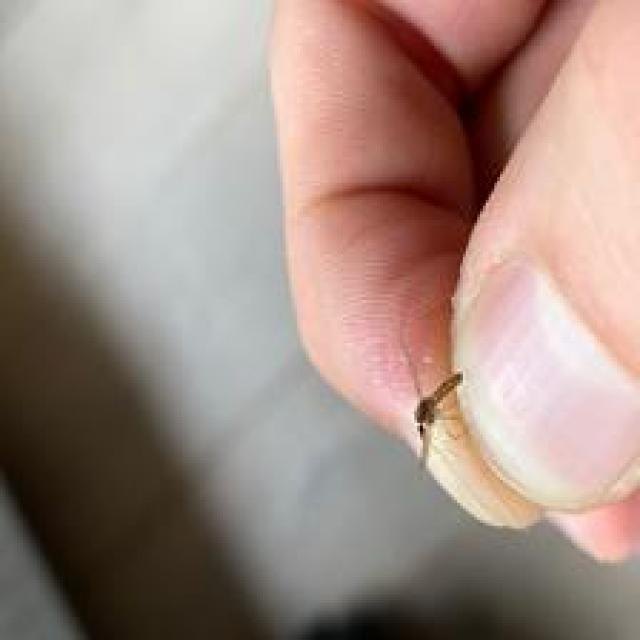Culex: (410, 368, 464, 472)
